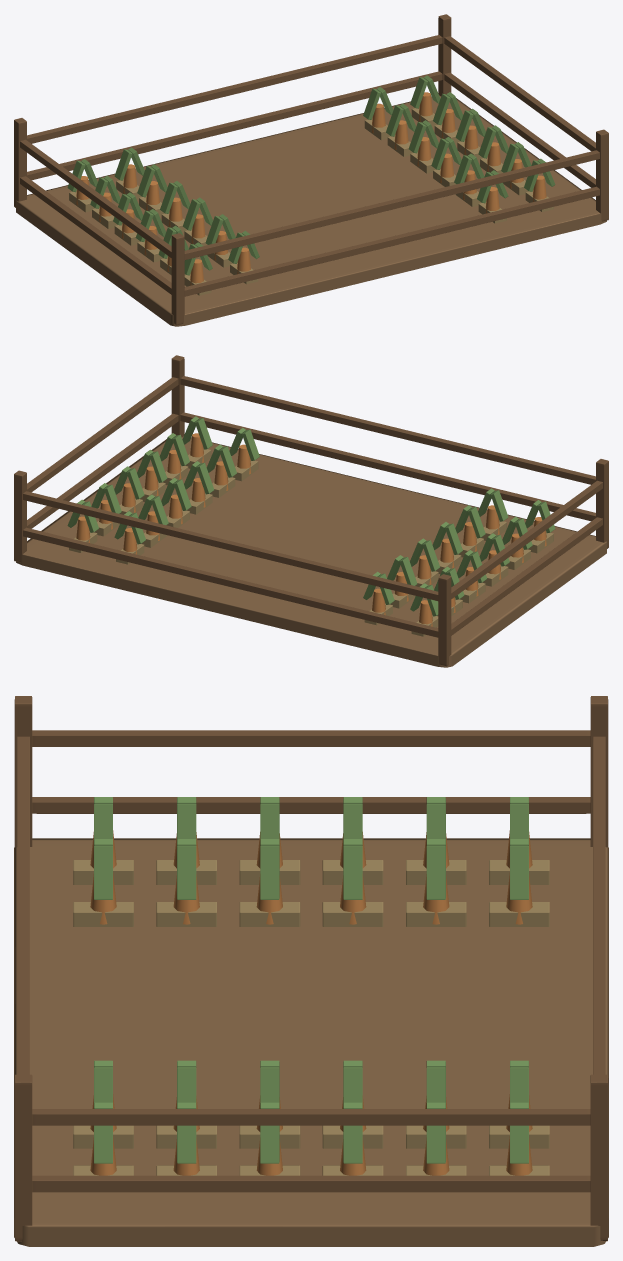
File: vegetablefield-3.glb
3 views of the same model, one above another, from view 1: azimuth 30°, elevation 25°; view 2: azimuth 150°, elevation 25°; view 3: azimuth 270°, elevation 25° (orthographic). The views are drawn at different scales.
Visible parts, largest first — view 1: vegetablefield-3-0, vegetable-crops; view 2: vegetablefield-3-0, vegetable-crops; view 3: vegetablefield-3-0, vegetable-crops.
Boxes of the visible parts, x1,y1,x2,y2 form: vegetablefield-3-0: [14, 14, 608, 326]; vegetable-crops: [67, 75, 555, 285]; vegetablefield-3-0: [14, 355, 608, 667]; vegetable-crops: [67, 416, 555, 626]; vegetablefield-3-0: [14, 696, 608, 1246]; vegetable-crops: [90, 797, 532, 1175].
Bounding box in the file's own units: 2.88 × 0.565 × 1.86.
